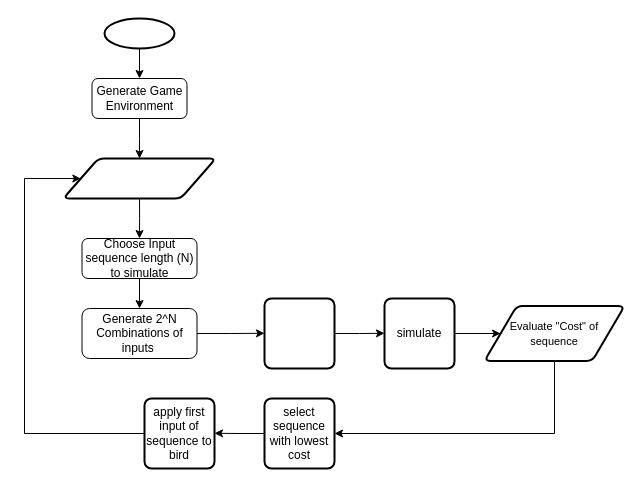
This 643x486 diagram has some shape labels left out. The shapes that lost their labels are listed below. From the top down, each one's box as (x1, y1, x2, y2) in pixels, then its label:
(103, 17, 175, 49): Start
(62, 157, 216, 199): Read Pipe and Bird Locations
(263, 297, 335, 369): for each sequence of inputs
